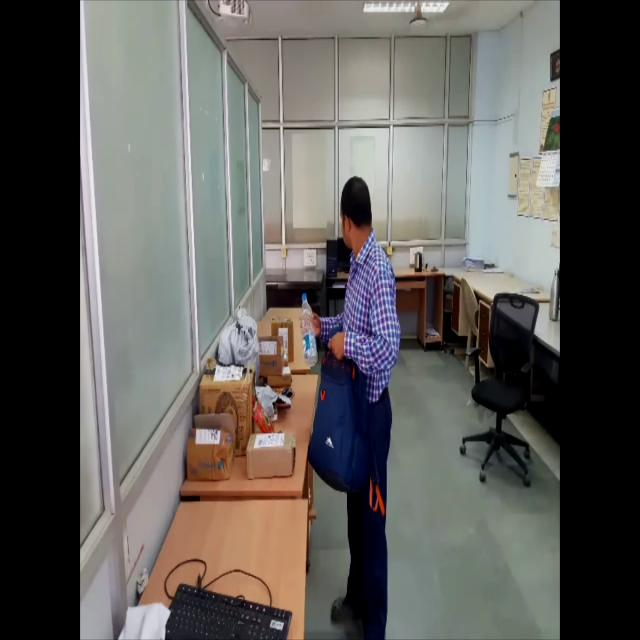shoplifting: (293, 175, 408, 640)
